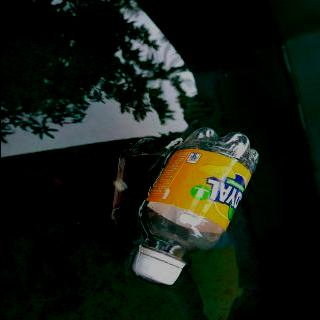bottle: (128, 126, 262, 286)
